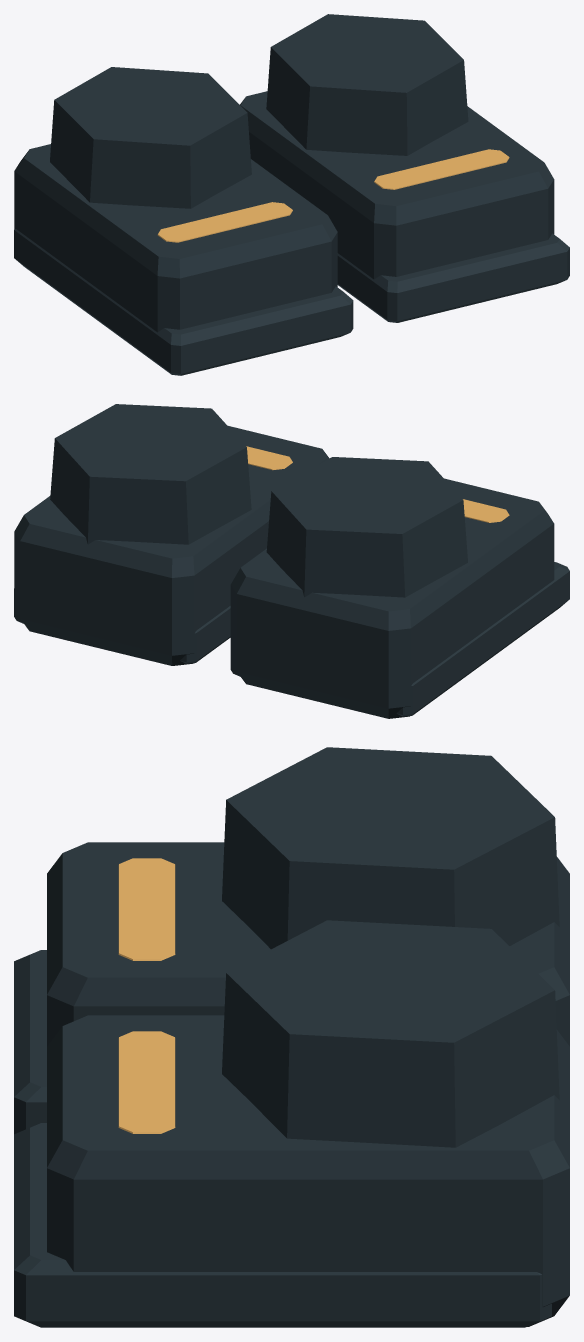
File: SM_NPC_FOOTWEAR_001_WorkBoots.glb
3 renders of one model, top to bottom at view 1: azimuth 30°, elevation 25°; view 2: azimuth 150°, elevation 25°; view 3: azimuth 270°, elevation 25°, orthographic. The views are drawn at different scales.
Parts seen in each view (by area): view 1: SM_NPC_FOOTWEAR_001_WorkBoots; view 2: SM_NPC_FOOTWEAR_001_WorkBoots; view 3: SM_NPC_FOOTWEAR_001_WorkBoots.
Part boxes in pixels (x1,y1,x2,y2): SM_NPC_FOOTWEAR_001_WorkBoots: (14, 14, 569, 375); SM_NPC_FOOTWEAR_001_WorkBoots: (14, 404, 569, 718); SM_NPC_FOOTWEAR_001_WorkBoots: (14, 747, 569, 1327).
Bounding box in the file's own units: 0.505 × 0.205 × 0.372.
